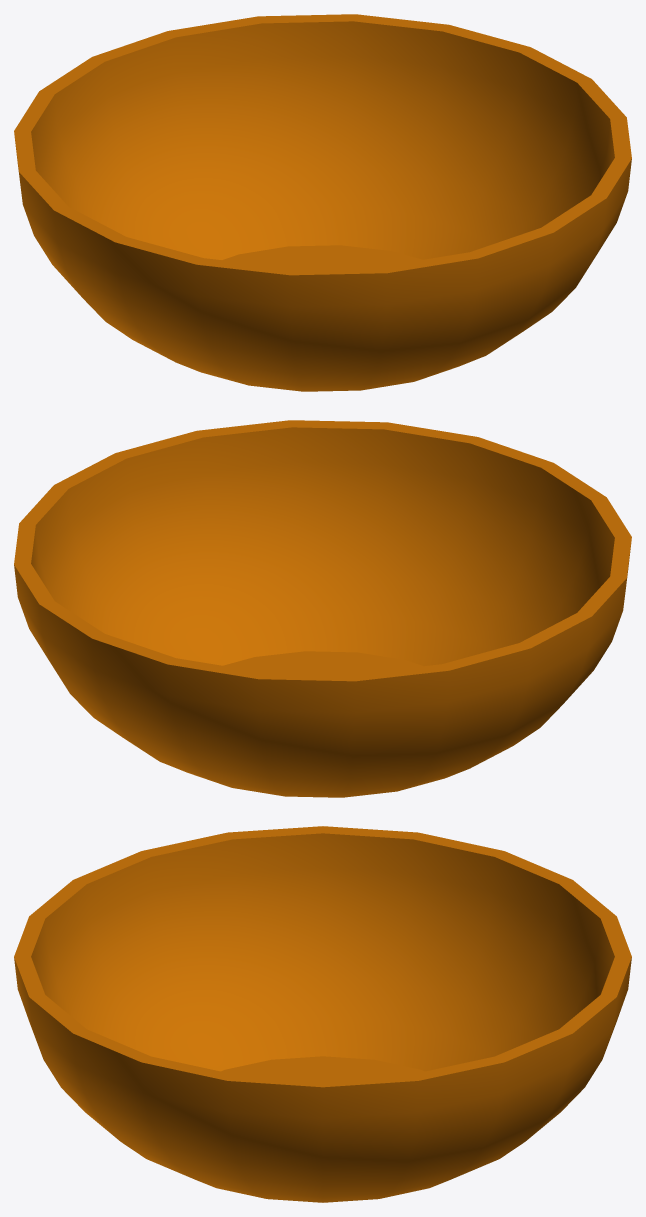
The model's file is SM_Prop_Bowl.fbx.
3 renders of one model, top to bottom at view 1: azimuth 30°, elevation 25°; view 2: azimuth 150°, elevation 25°; view 3: azimuth 270°, elevation 25°, orthographic.
Visible parts, largest first — view 1: SM_Prop_Bowl; view 2: SM_Prop_Bowl; view 3: SM_Prop_Bowl.
Boxes of the visible parts, x1=… form: SM_Prop_Bowl: x1=14, y1=14, x2=631, y2=391; SM_Prop_Bowl: x1=14, y1=420, x2=631, y2=797; SM_Prop_Bowl: x1=14, y1=826, x2=631, y2=1202.
Size of the model in its own units: 20 by 6.66 by 20.
